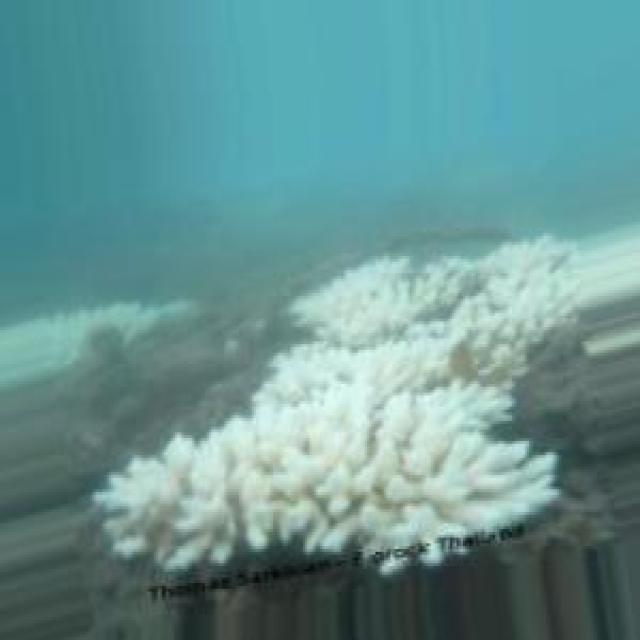Bleached: (100, 239, 577, 571)
